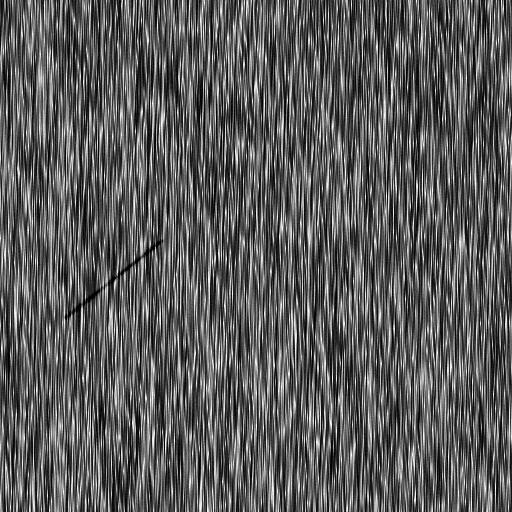DefectTypeC: (64, 240, 164, 322)
